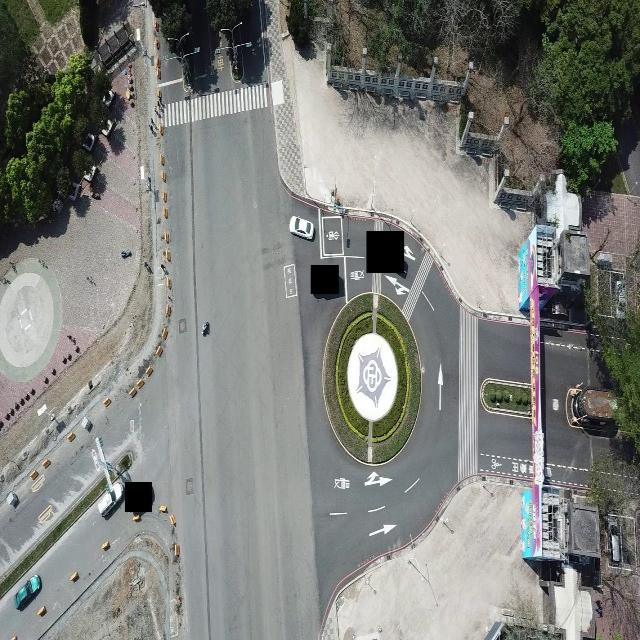bike: (202, 320, 210, 336)
car: (95, 486, 128, 516), (14, 574, 41, 610), (608, 513, 621, 571), (289, 215, 316, 240), (614, 278, 627, 324)
